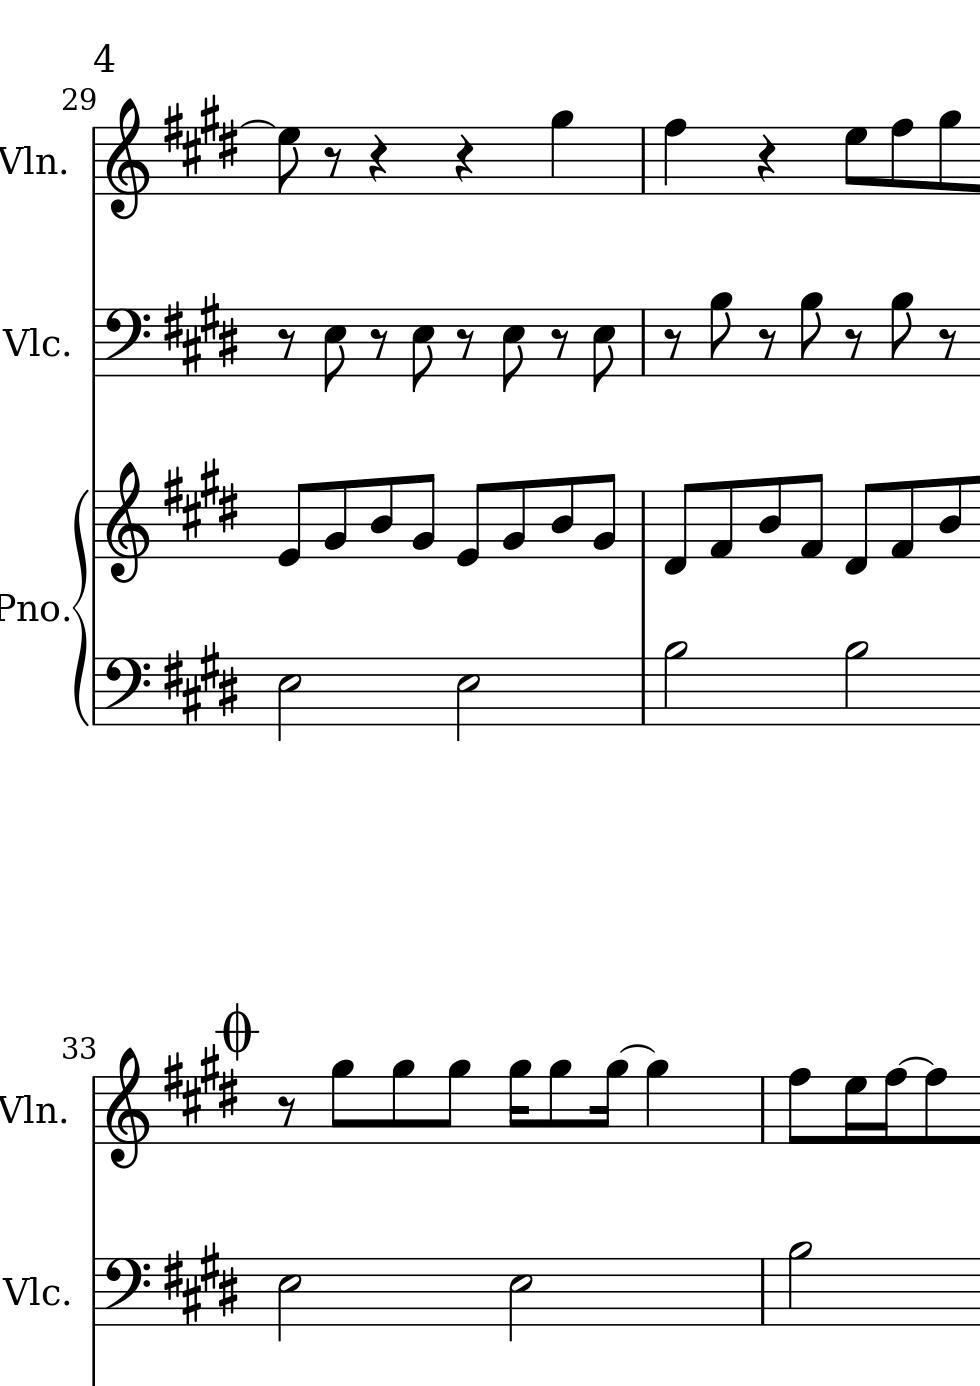16_7: (842, 1075, 868, 1147)
16_8: (872, 1068, 907, 1146)
16_9: (591, 1059, 629, 1146), (505, 1057, 532, 1146)
2: (59, 86, 78, 113)
2_5: (454, 656, 480, 742), (275, 1257, 301, 1343), (506, 1257, 532, 1343), (275, 656, 301, 740)
2_9: (786, 1239, 813, 1327), (661, 641, 688, 727), (842, 639, 869, 727)
3: (60, 1035, 78, 1062), (78, 1035, 97, 1062)
4: (92, 42, 116, 73)
4_8: (661, 117, 687, 197)
4_9: (643, 1058, 669, 1146), (548, 108, 573, 197)
8_-1: (662, 481, 697, 576), (842, 481, 874, 577)
8_0: (276, 481, 311, 569), (454, 481, 487, 571)
8_1: (797, 472, 825, 561), (888, 478, 916, 561), (707, 478, 735, 561)
8_2: (409, 472, 436, 560), (590, 472, 616, 560), (500, 479, 526, 560), (322, 479, 348, 560)
8_4: (937, 475, 964, 560), (756, 475, 783, 560), (549, 475, 575, 560), (368, 475, 393, 559)
8_5: (589, 308, 616, 394), (498, 306, 525, 393), (321, 306, 347, 394), (409, 306, 435, 393)
8_7: (276, 125, 301, 195), (842, 125, 867, 196)
8_8: (922, 1066, 950, 1145), (786, 1067, 812, 1146), (888, 117, 913, 197)
8_9: (436, 1059, 471, 1146), (797, 291, 825, 379), (888, 290, 915, 379), (329, 1059, 356, 1146), (707, 291, 734, 379), (937, 108, 962, 196), (390, 1059, 416, 1146), (546, 1059, 572, 1146)
9: (78, 85, 97, 113)
Coda: (214, 1003, 258, 1060)
E_S: (161, 92, 239, 176), (163, 291, 237, 378), (163, 456, 237, 543), (163, 642, 239, 723), (161, 1242, 237, 1323), (162, 1042, 234, 1127)
Fclef: (102, 308, 151, 378), (102, 1256, 150, 1327), (102, 655, 150, 725)
Gclef: (104, 460, 150, 585), (104, 97, 150, 221), (105, 1046, 150, 1169)
Pno: (1, 591, 58, 626)
Rests4: (452, 133, 475, 185), (754, 133, 777, 185), (366, 133, 388, 185)
Rests8: (662, 326, 683, 361), (276, 1093, 297, 1128), (757, 326, 778, 359), (843, 326, 864, 359), (937, 326, 958, 359), (277, 326, 297, 359), (455, 326, 475, 359), (322, 145, 343, 178), (369, 326, 388, 359), (549, 326, 568, 359)
Single_barline: (753, 1076, 772, 1144), (754, 1258, 772, 1324), (635, 491, 652, 559), (635, 657, 652, 724), (635, 127, 652, 193), (634, 310, 651, 375), (86, 309, 101, 378), (88, 490, 102, 559), (86, 127, 100, 195), (87, 1259, 101, 1326), (87, 1077, 100, 1144), (89, 657, 101, 725)
Slur: (69, 483, 90, 727), (618, 1043, 655, 1055), (897, 1055, 934, 1067), (239, 119, 276, 129)
Vlc: (2, 1271, 62, 1313), (2, 321, 59, 364)
Vln: (1, 141, 59, 181), (1, 1090, 59, 1130)
